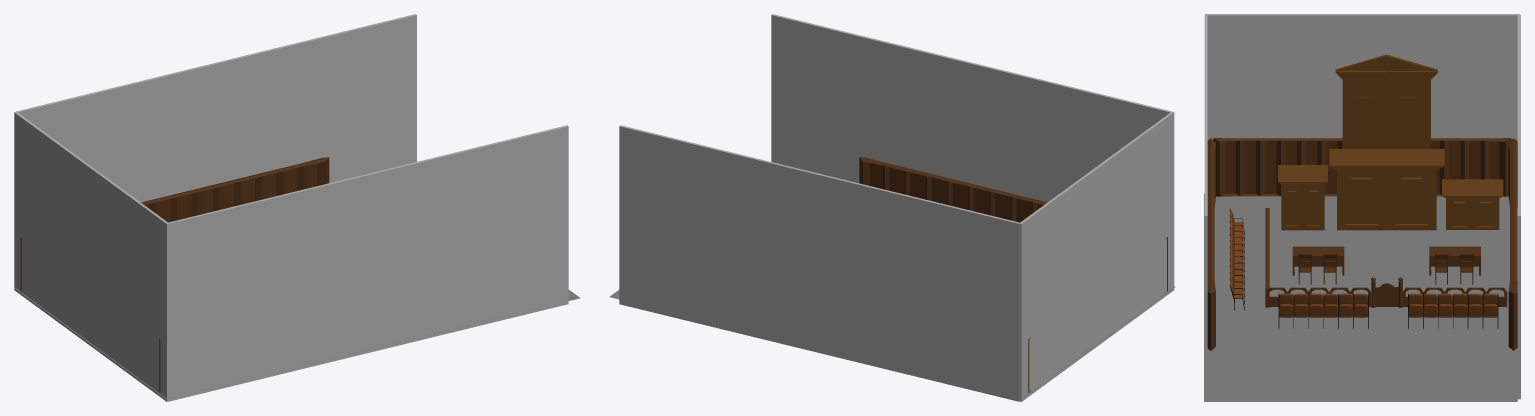
File: durusma_salonu.fbx
3 renders of one model, left to right at view 1: azimuth 30°, elevation 25°; view 2: azimuth 150°, elevation 25°; view 3: azimuth 270°, elevation 25°, orthographic. The views are drawn at different scales.
Parts seen in each view (by area): view 1: Plane.007, Plane.006, Plane.008, Plane.003, Plane; view 2: Plane.006, Plane.007, Plane.008, Plane.004; view 3: Plane, Plane.008, Plane.005, Cube.007, Cube.128, Cube.008, Cube.009, Plane.003, Plane.004, Plane.006, Plane.007, Cube.006 (+4 smaller).
Part boxes in pixels (x1=…): Plane.007: x1=168, y1=125, x2=568, y2=401; Plane.006: x1=16, y1=14, x2=416, y2=202; Plane.008: x1=14, y1=112, x2=169, y2=401; Plane.003: x1=141, y1=157, x2=329, y2=222; Plane: x1=14, y1=288, x2=580, y2=399; Plane.006: x1=619, y1=125, x2=1019, y2=401; Plane.007: x1=771, y1=14, x2=1171, y2=202; Plane.008: x1=1019, y1=111, x2=1174, y2=401; Plane.004: x1=859, y1=157, x2=1047, y2=222; Plane: x1=1204, y1=193, x2=1517, y2=401; Plane.008: x1=1205, y1=14, x2=1519, y2=140; Plane.005: x1=1213, y1=138, x2=1511, y2=196; Cube.007: x1=1329, y1=149, x2=1444, y2=230; Cube.128: x1=1335, y1=54, x2=1437, y2=148; Cube.008: x1=1278, y1=165, x2=1327, y2=230; Cube.009: x1=1442, y1=179, x2=1503, y2=229; Plane.003: x1=1508, y1=138, x2=1517, y2=350; Plane.004: x1=1207, y1=138, x2=1215, y2=350; Plane.006: x1=1517, y1=15, x2=1520, y2=399; Plane.007: x1=1204, y1=15, x2=1207, y2=395; Cube.006: x1=1269, y1=287, x2=1507, y2=306.
Size of the model in its own units: 1397 by 576 by 897.
